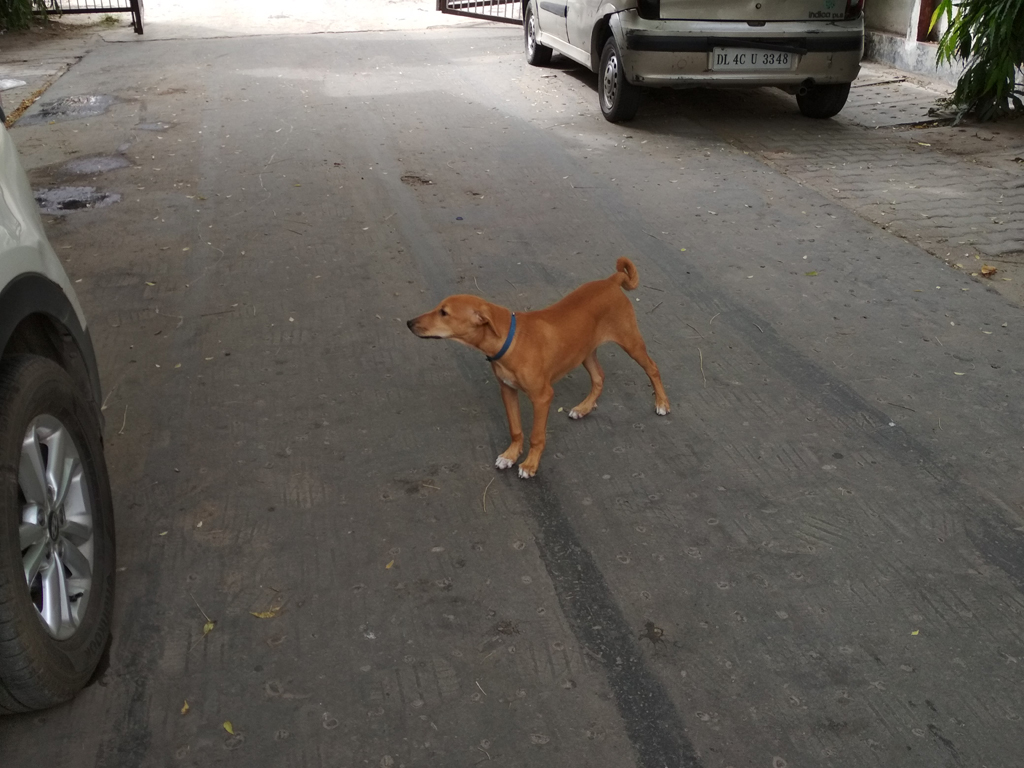dog: (407, 258, 670, 479)
